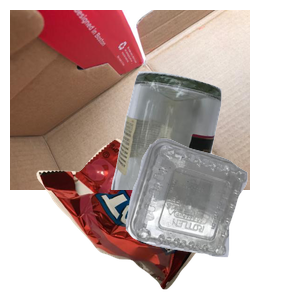cardboard: (10, 10, 250, 190)
glass: (109, 69, 300, 249)
plastic: (123, 136, 300, 300)
trash: (34, 136, 253, 300)
